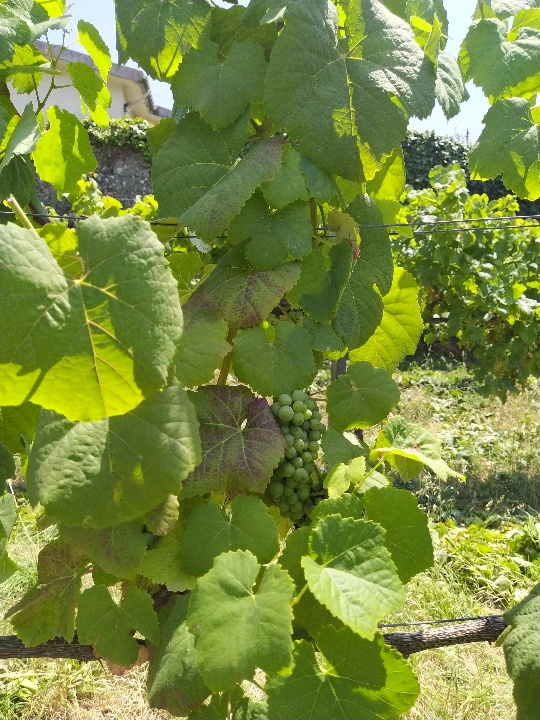grape: (263, 386, 327, 523)
